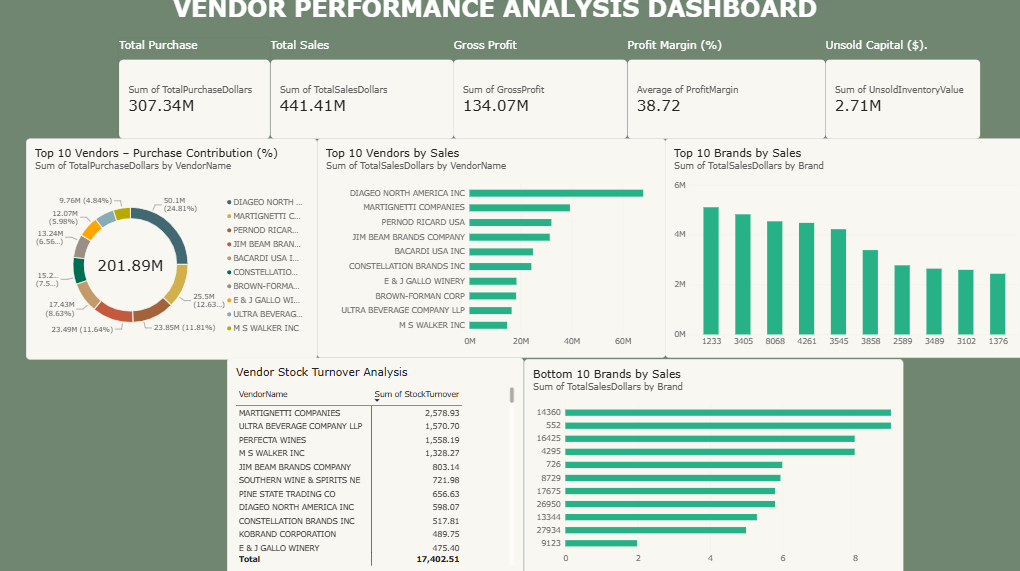

Layout of this report page (visuals, bound fields, positions):
{"tool":"powerbi","page":{"name":"Page 1","canvas":[1920,1080],"ordinal":0},"visuals":[{"type":"cardVisual","title":"Total Purchase","fields":{"Data":["Sum(Vendor_Performance_Analysis.TotalPurchaseDollars)"]},"box":[233.3,83.3,280,187.5],"z":0},{"type":"cardVisual","title":"Total Sales","fields":{"Data":["Sum(Vendor_Performance_Analysis.TotalSalesDollars)"]},"box":[513.3,83.3,340,187.5],"z":1000},{"type":"cardVisual","title":"Gross Profit","fields":{"Data":["Sum(Vendor_Performance_Analysis.GrossProfit)"]},"box":[853.3,83.3,322.5,187.5],"z":2000},{"type":"cardVisual","title":"Profit Margin (%)","fields":{"Data":["Avg(Vendor_Performance_Analysis.ProfitMargin)"]},"box":[1176.7,83.3,367.5,187.5],"z":3000},{"type":"clusteredBarChart","title":"Top 10 Vendors by Sales","fields":{"Category":["Vendor_Performance_Analysis.VendorName"],"Y":["Sum(Vendor_Performance_Analysis.TotalSalesDollars)"]},"box":[600,270,646.7,406.7],"z":4000},{"type":"clusteredColumnChart","title":"Top 10 Brands by Sales","fields":{"Category":["Vendor_Performance_Analysis.Brand"],"Y":["Sum(Vendor_Performance_Analysis.TotalSalesDollars)"]},"box":[1246.7,270,673.3,406.7],"z":5000},{"type":"textbox","title":"VENDOR PERFORMANCE ANALYSIS DASHBOARD","box":[333.3,0,1257.5,162.5],"z":7000},{"type":"cardVisual","title":"Unsold Capital ($).","fields":{"Data":["Sum(Vendor_Performance_Analysis.UnsoldInventoryValue)"]},"box":[1543.3,83.3,287.5,187.5],"z":8000},{"type":"donutChart","title":"Top 10 Vendors – Purchase Contribution (%)","fields":{"Category":["Vendor_Performance_Analysis.VendorName"],"Y":["Sum(Vendor_Performance_Analysis.TotalPurchaseDollars)"]},"box":[60,270,540,410],"z":9000},{"type":"pivotTable","title":"Vendor Stock Turnover Analysis","fields":{"Rows":["Vendor_Performance_Analysis.VendorName"],"Values":["Sum(Vendor_Performance_Analysis.StockTurnover)"]},"box":[433.3,676.7,550,403.3],"z":10000},{"type":"clusteredBarChart","title":"Bottom 10 Brands by Sales","fields":{"Category":["Vendor_Performance_Analysis.Brand"],"Y":["Sum(Vendor_Performance_Analysis.TotalSalesDollars)"]},"box":[983.3,680,703.3,400],"z":10001}]}

Visuals, with their boxes in screenshot pixels (x1, y1, x2, y2), scaled from the page's 1920x1080 canvas onto the 1020x571 screenshot:
"Total Purchase" cardVisual: [left=124, top=44, right=273, bottom=143]
"Total Sales" cardVisual: [left=273, top=44, right=453, bottom=143]
"Gross Profit" cardVisual: [left=453, top=44, right=625, bottom=143]
"Profit Margin (%)" cardVisual: [left=625, top=44, right=820, bottom=143]
"Top 10 Vendors by Sales" clusteredBarChart: [left=319, top=143, right=662, bottom=358]
"Top 10 Brands by Sales" clusteredColumnChart: [left=662, top=143, right=1019, bottom=358]
"VENDOR PERFORMANCE ANALYSIS DASHBOARD" textbox: [left=177, top=0, right=845, bottom=86]
"Unsold Capital ($)." cardVisual: [left=820, top=44, right=973, bottom=143]
"Top 10 Vendors – Purchase Contribution (%)" donutChart: [left=32, top=143, right=319, bottom=360]
"Vendor Stock Turnover Analysis" pivotTable: [left=230, top=358, right=522, bottom=570]
"Bottom 10 Brands by Sales" clusteredBarChart: [left=522, top=360, right=896, bottom=570]
